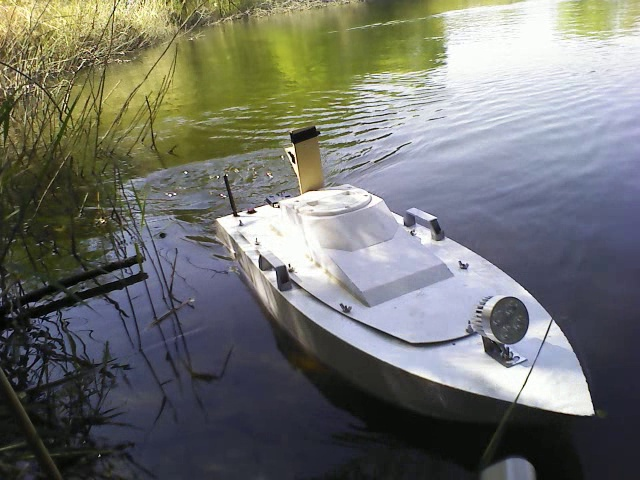boat: (195, 120, 601, 429)
